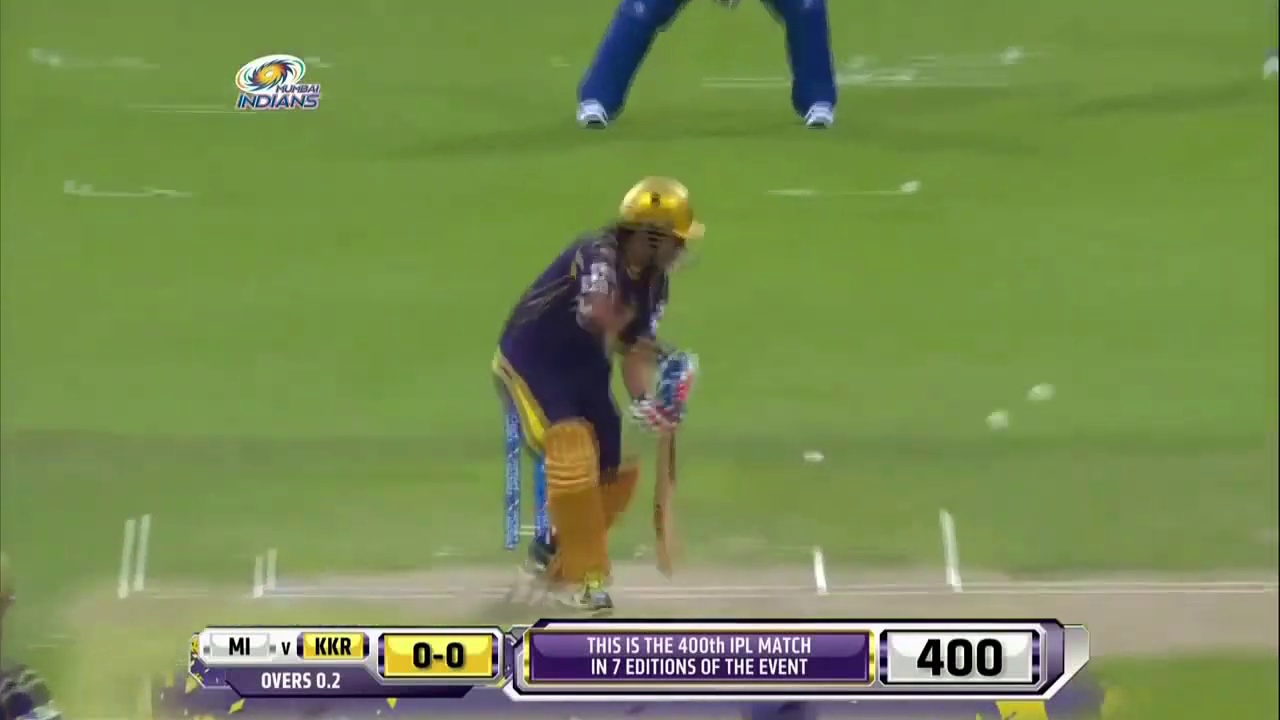bat: (652, 433, 680, 578)
